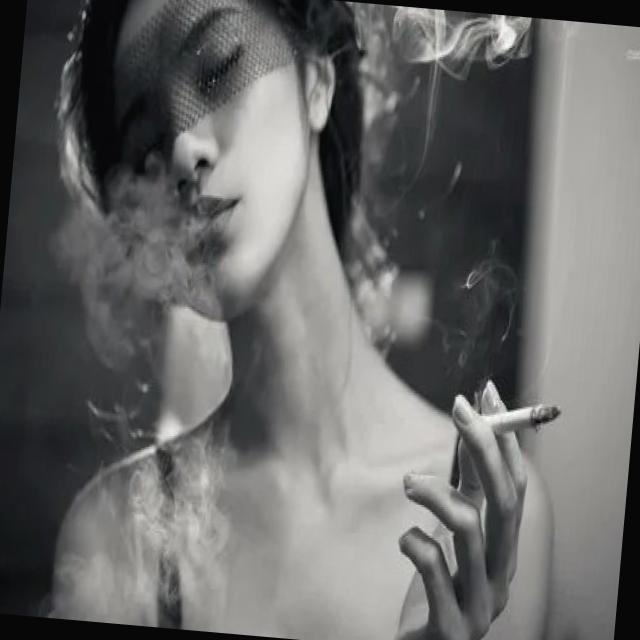smoke: (465, 397, 564, 444)
